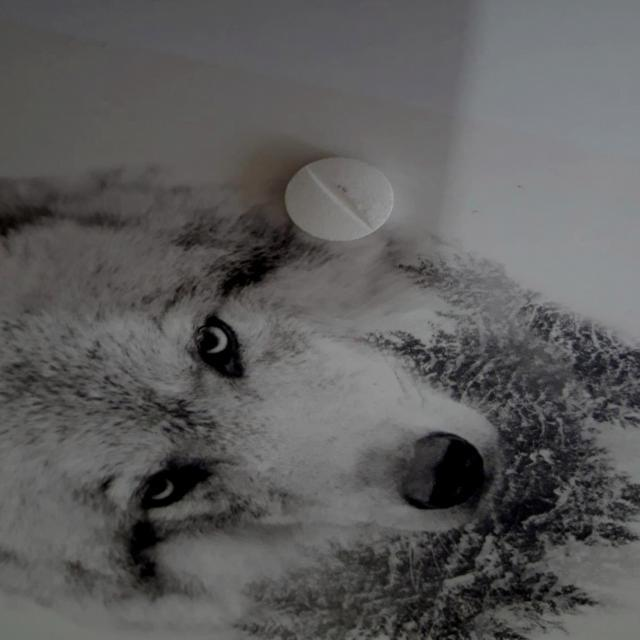pill: (284, 152, 394, 242)
